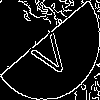V: (25, 25, 73, 82)
